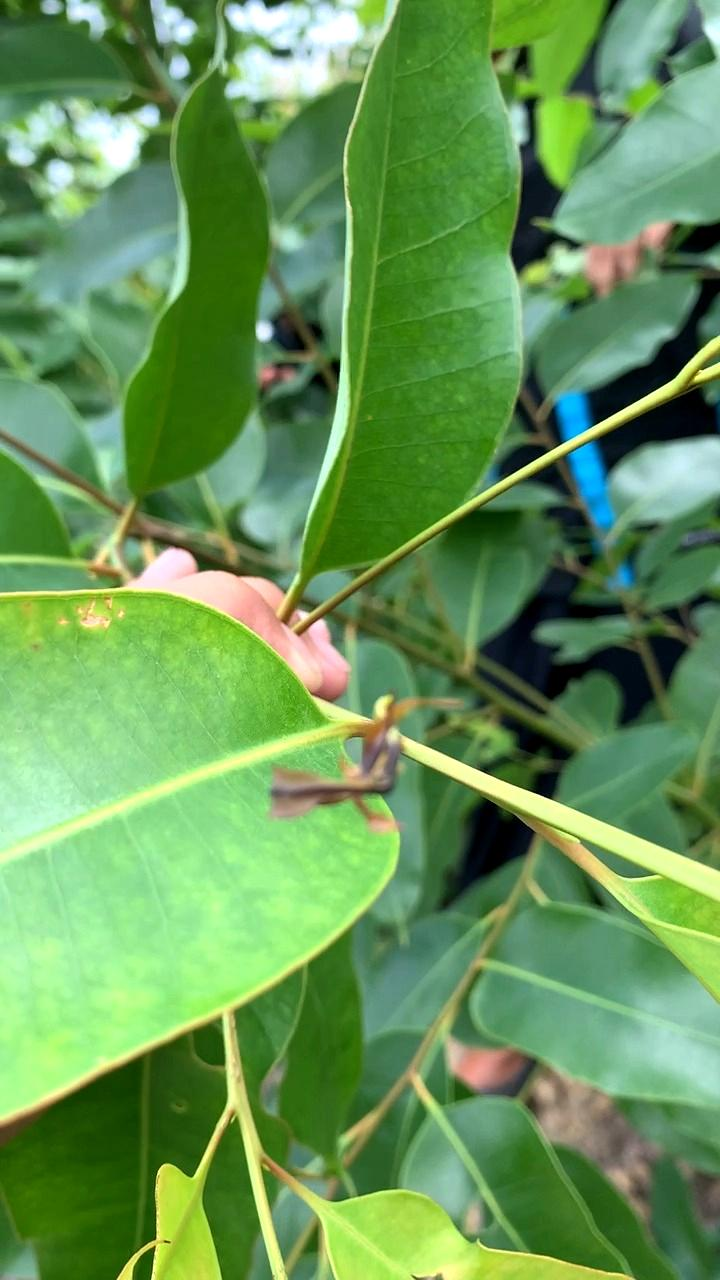Helopeltis-Withered Sprout: (259, 668, 463, 887)
